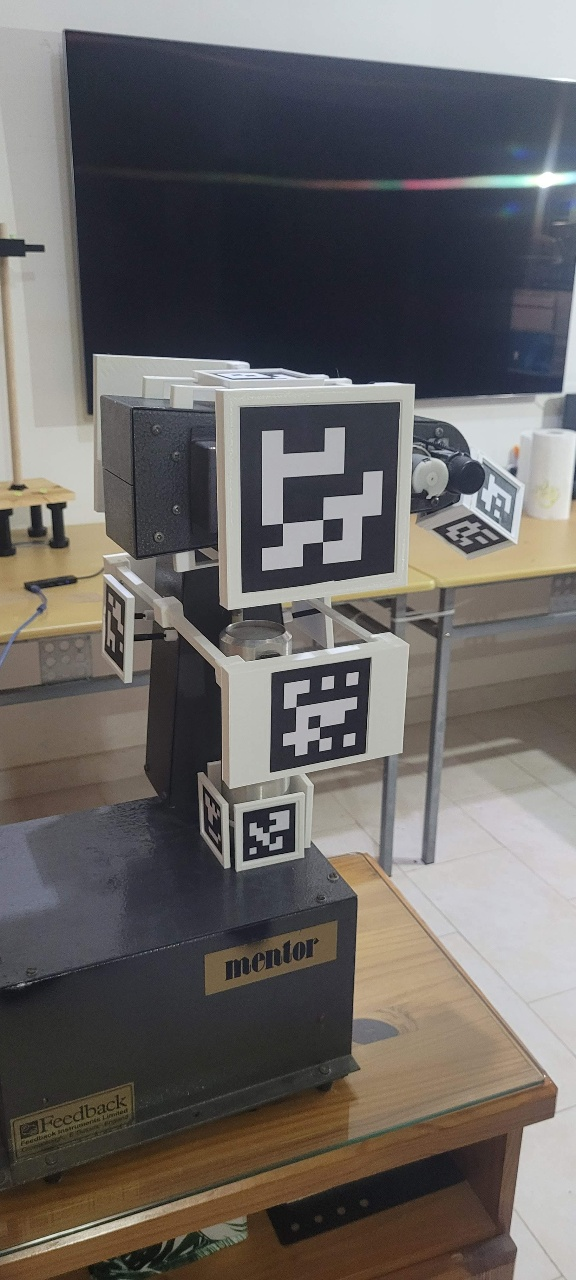Robot: (37, 280, 551, 1105)
